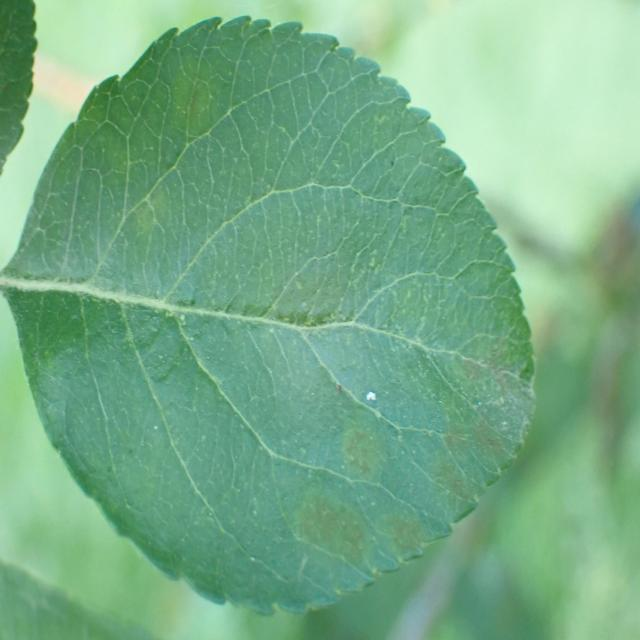scab: (72, 41, 534, 590)
